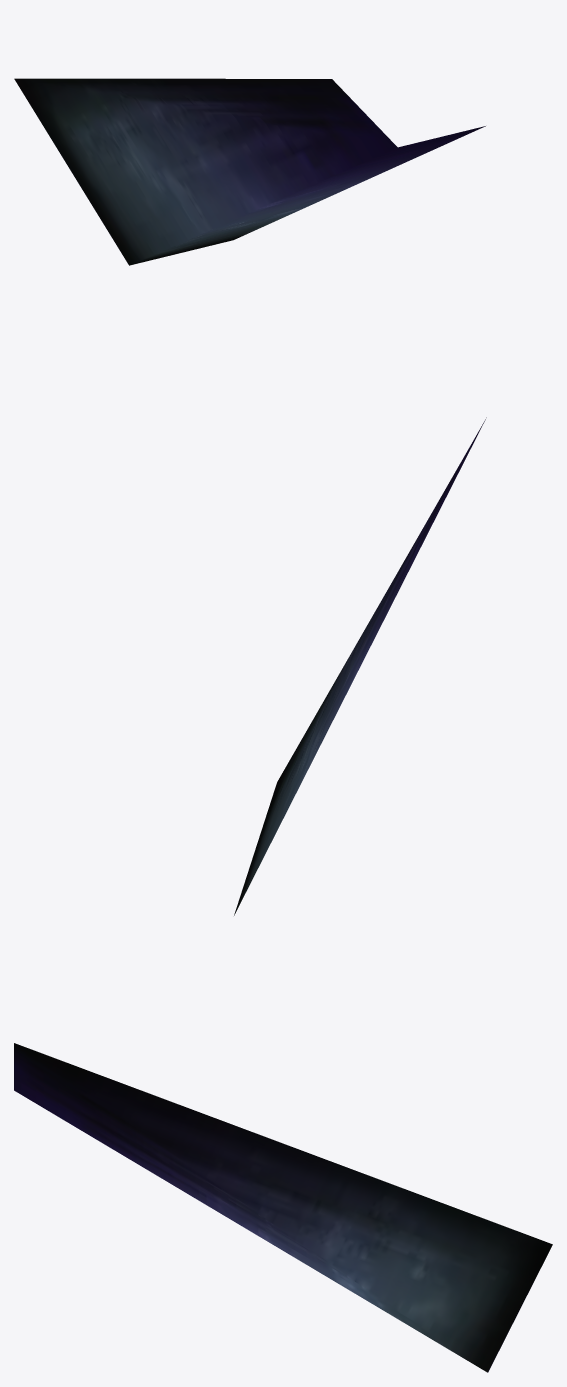
3 renders of one model, top to bottom at view 1: azimuth 30°, elevation 25°; view 2: azimuth 150°, elevation 25°; view 3: azimuth 270°, elevation 25°, orthographic. The views are drawn at different scales.
Visible parts, largest first — view 1: model_Object128; view 2: model_Object128; view 3: model_Object128.
Boxes of the visible parts, left/top/right/bottom form: model_Object128: left=14, top=78, right=485, bottom=265; model_Object128: left=234, top=417, right=486, bottom=915; model_Object128: left=14, top=1043, right=552, bottom=1372.
Size of the model in its own units: 2.17 by 3.09 by 4.24.
Materials: 1 (1 with a texture image).
